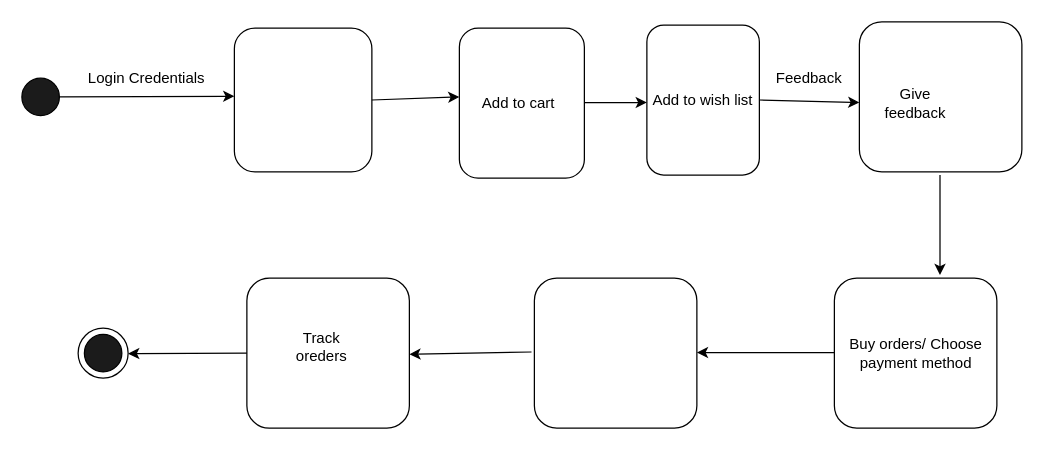
The diagram is 1044 pixels wide and 450 high, and some of its shapes have lost their labels. The shapes that lost their labels are listed below. From the top down, each one's box as (x1, y1, x2, y2) in pixels, then its label:
(233, 27, 372, 172): Browsing
(533, 277, 697, 428): Confirm shopping process
